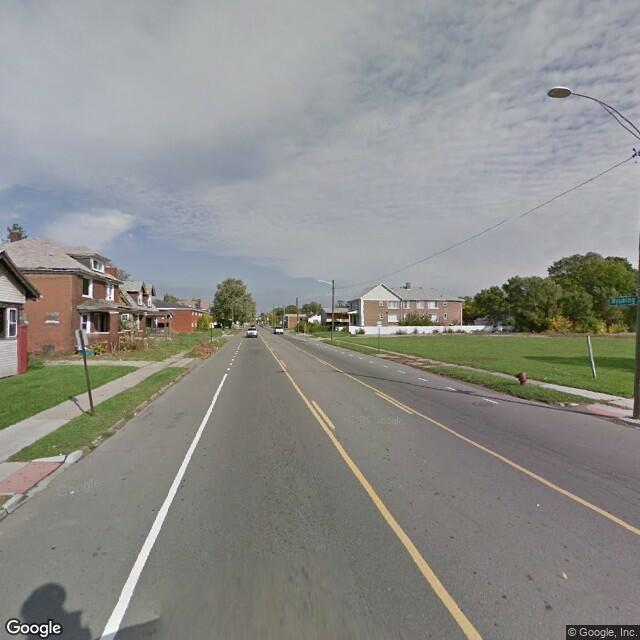litter: (132, 412, 136, 417), (544, 375, 547, 381)
